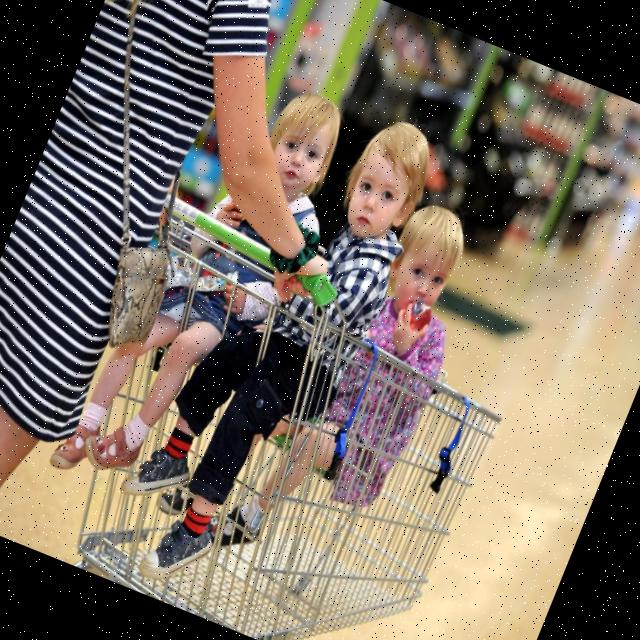Person: (0, 0, 421, 609), (94, 76, 447, 614), (45, 49, 372, 528), (206, 172, 500, 598)
